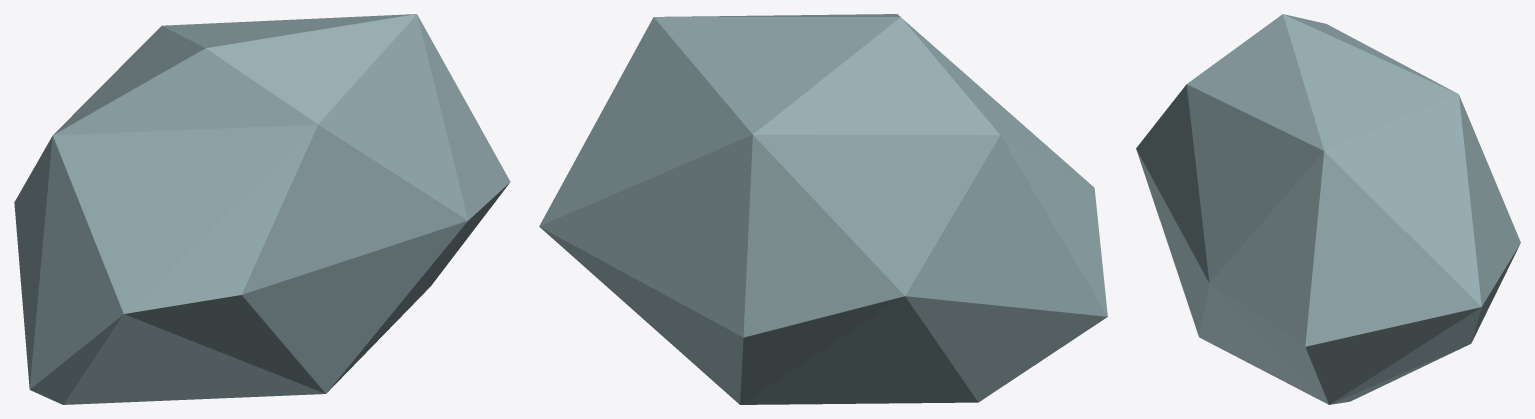
Rendered from Dandelion_Roc3_Clair.FBX.
The picture shows the model from 3 angles, left to right: view 1: azimuth 30°, elevation 25°; view 2: azimuth 150°, elevation 25°; view 3: azimuth 270°, elevation 25°; orthographic projection. The views are drawn at different scales.
Parts seen in each view (by area): view 1: GeoSphere014; view 2: GeoSphere014; view 3: GeoSphere014.
Boxes of the visible parts, x1,y1,x2,y2 form: GeoSphere014: (14, 14, 510, 404); GeoSphere014: (539, 14, 1107, 404); GeoSphere014: (1136, 14, 1520, 404).
Size of the model in its own units: 590 by 432 by 432.
